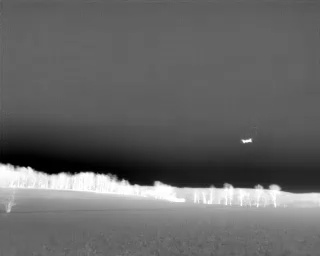DRONE: (237, 133, 257, 150)
